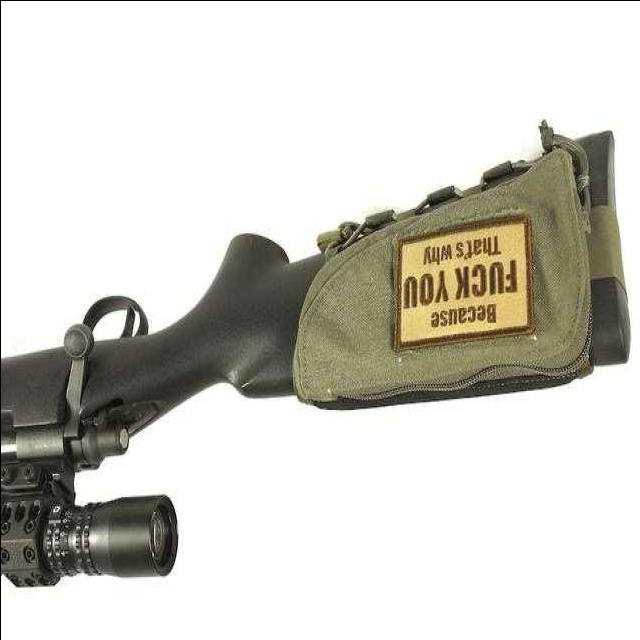heavyweapon: (1, 132, 628, 582)
